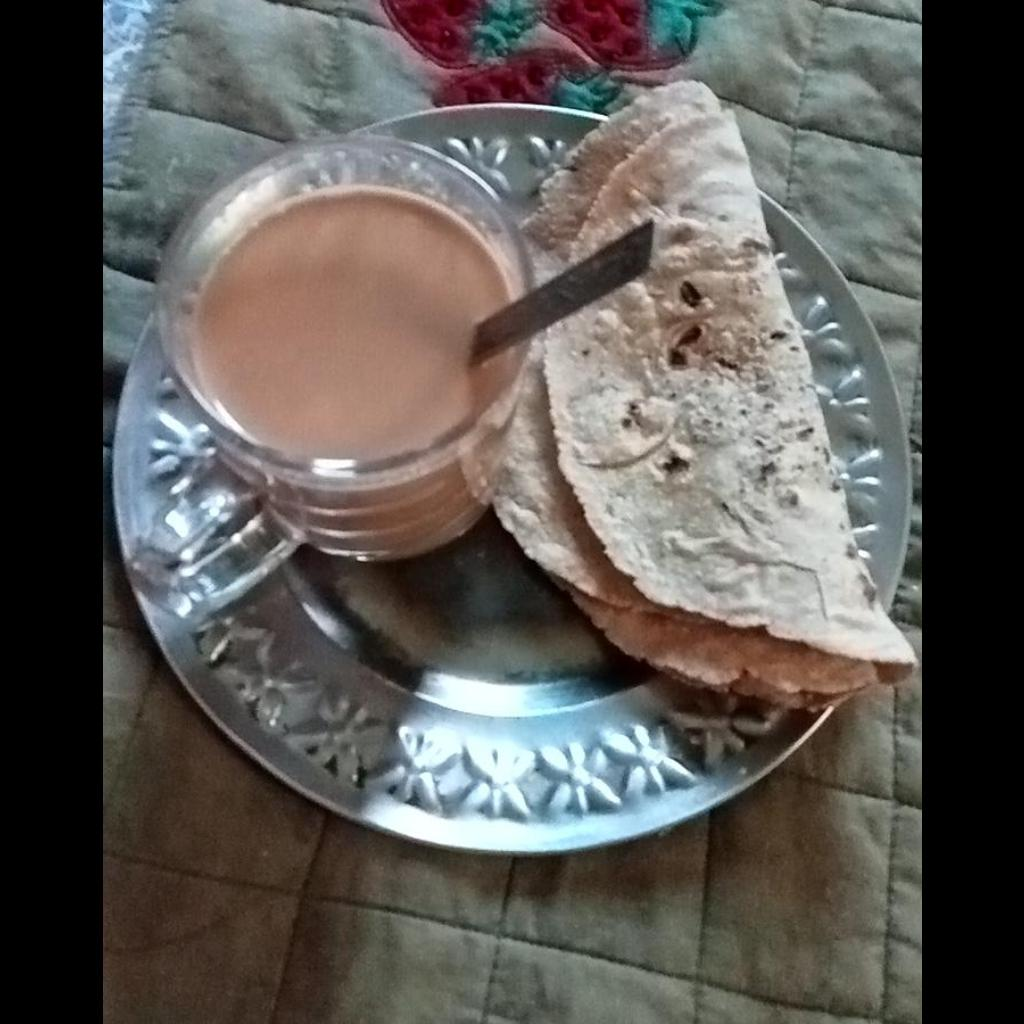cha: (193, 191, 512, 454)
ruti: (488, 77, 912, 700)
